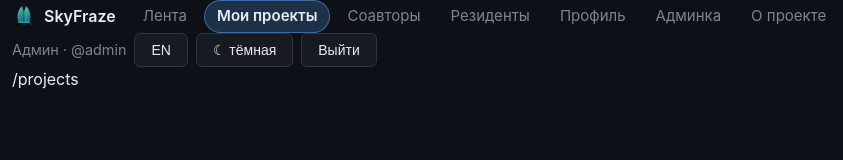
Test: Header — навигация на узком экране › переключатель EN/RU меняет подписи на месте
The image size is (843, 160).
Expected: the link "Мои проекты" is shown, [204,0,330,33]
Click the button with aria-label "Переключить язык" at point(161, 50), box [134,33,188,67]
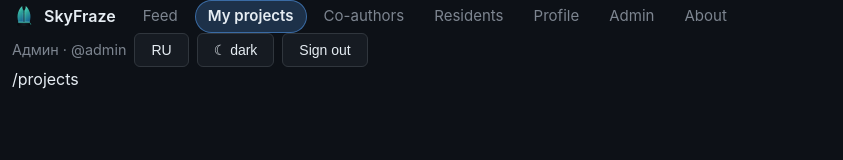
Expected: the link "My projects" is shown, [195,0,306,33]
Expected: the link "Мои проекты" is gone
Expected: the button "Sign out" is shown, [282,33,368,67]
Click the button with aria-label "Switch language" at point(162, 50), box [134,33,189,67]
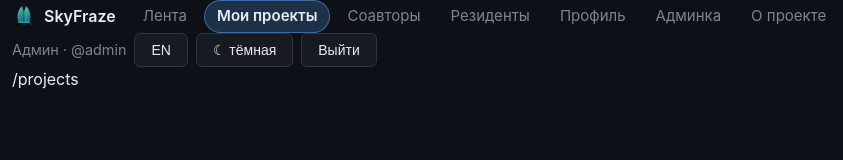
Expected: the link "Мои проекты" is shown, [204,0,330,33]
